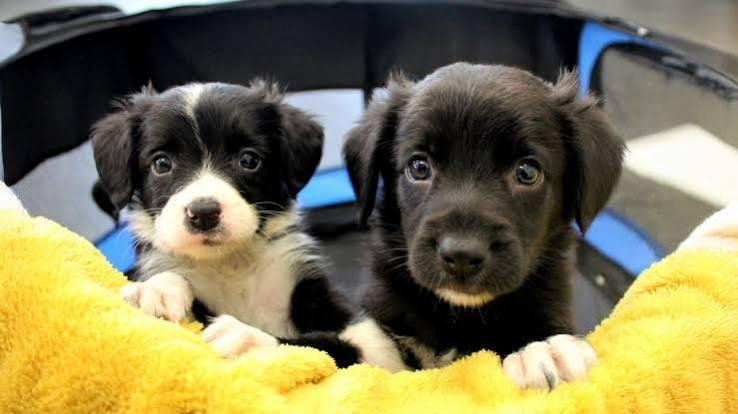puppy-dog: (342, 54, 628, 388), (84, 81, 368, 366)
